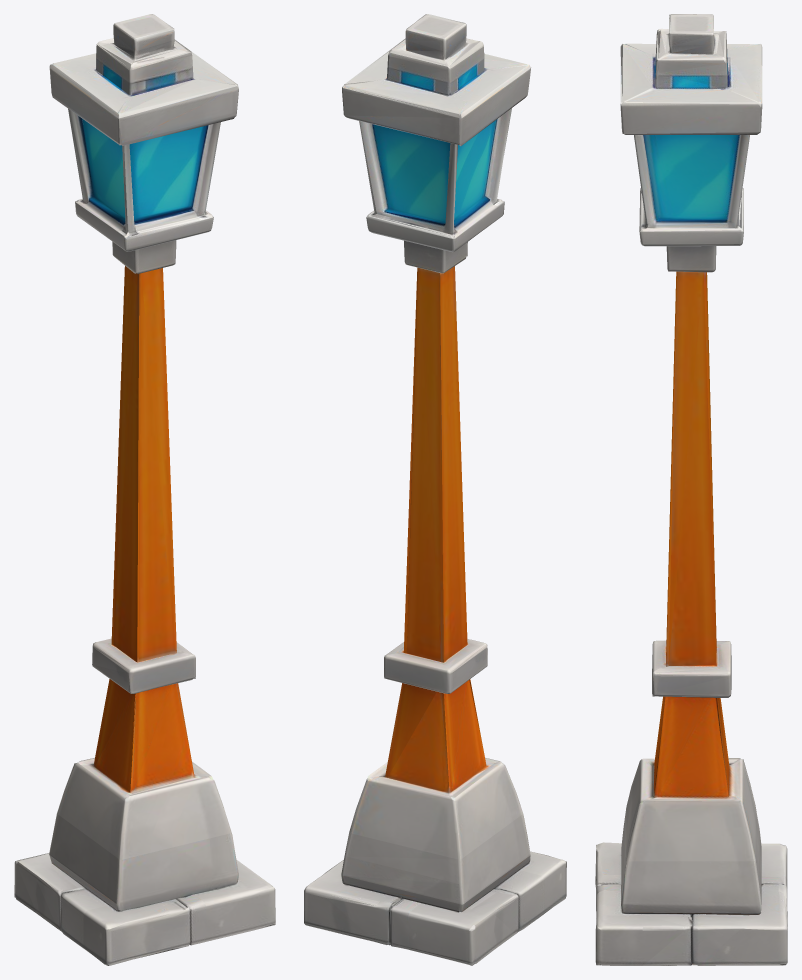
File: lantern.glb
The picture shows the model from 3 angles, left to right: view 1: azimuth 30°, elevation 25°; view 2: azimuth 150°, elevation 25°; view 3: azimuth 270°, elevation 25°; orthographic projection.
Size of the model in its own units: 0.2021 by 1 by 0.1938.
Materials: 1 (1 with a texture image).
